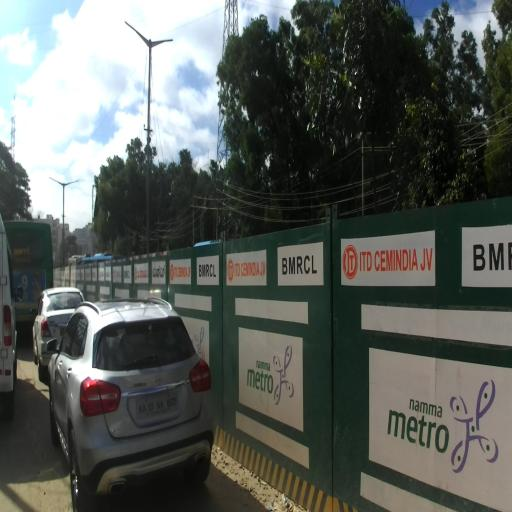street_light_0: (124, 20, 151, 52), (148, 38, 174, 54), (49, 176, 64, 189), (63, 179, 79, 189)
